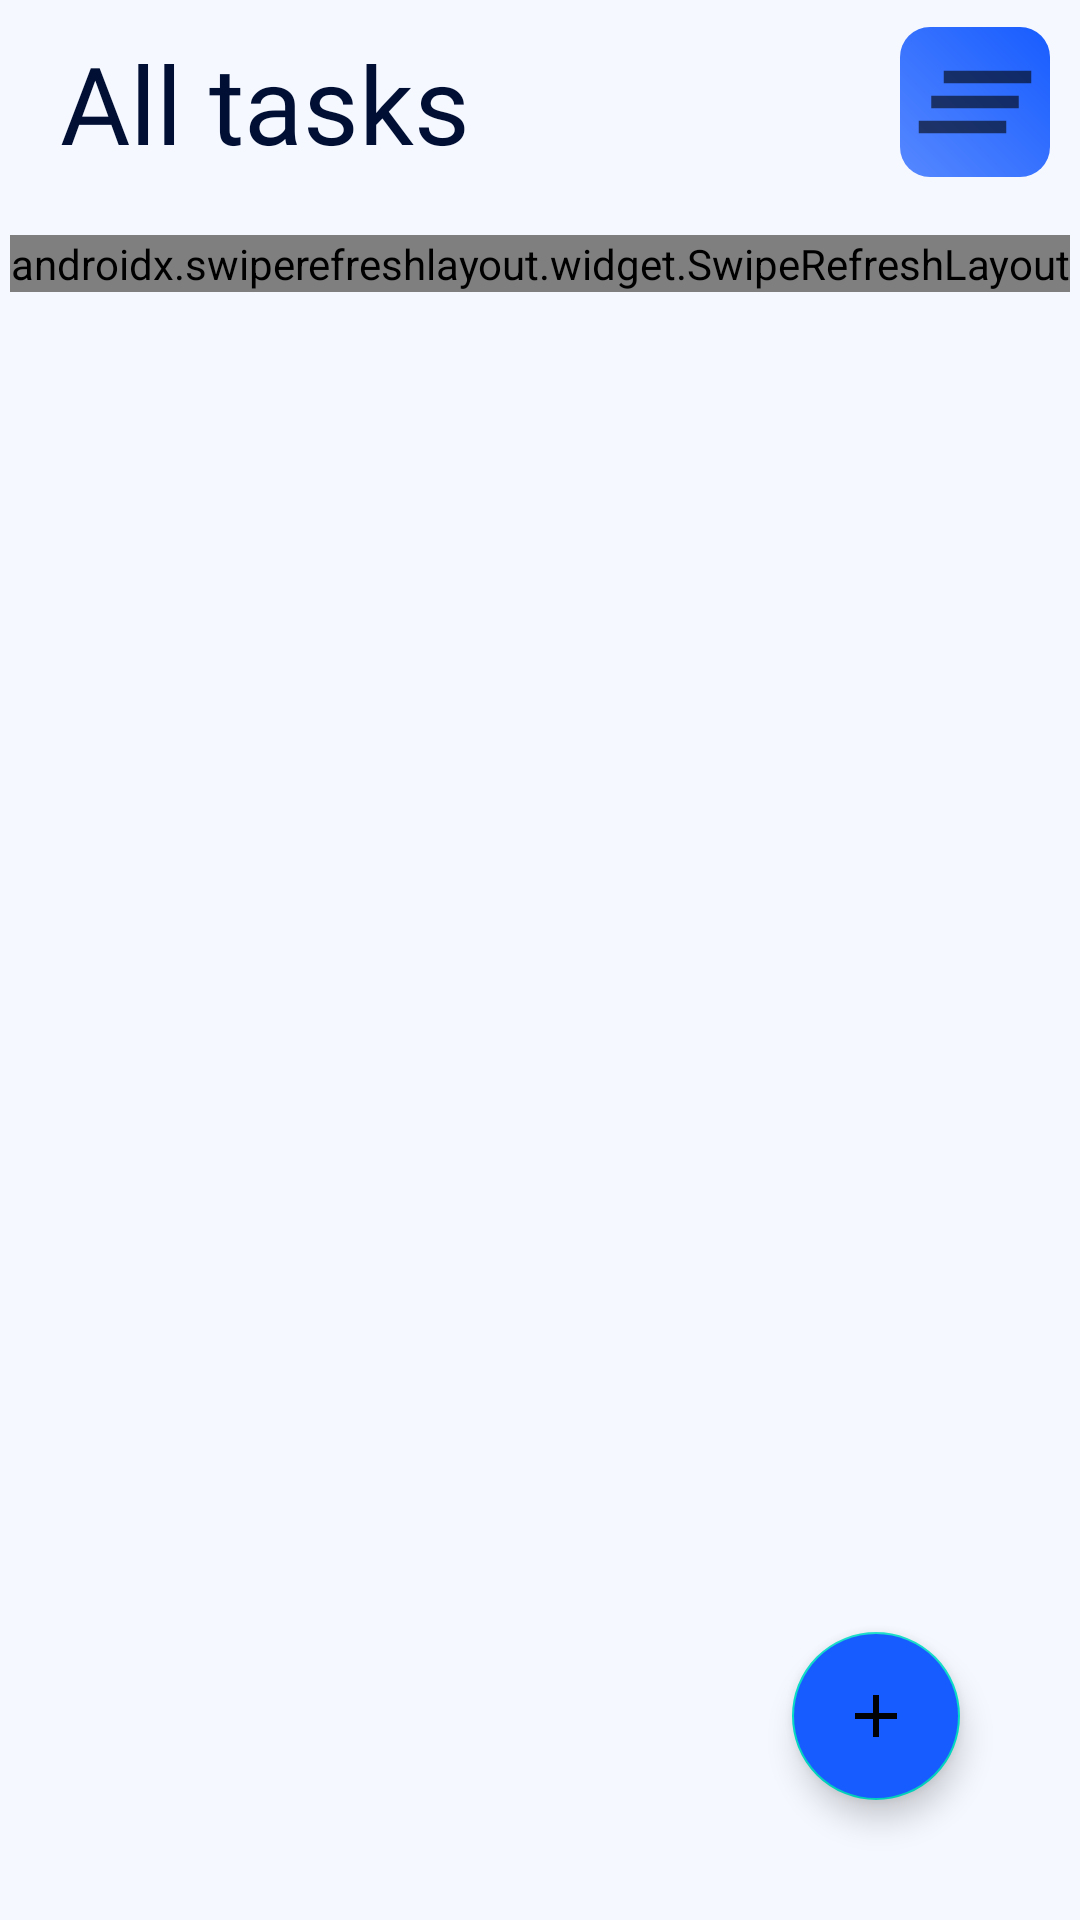

Named icons in this screenshot (1080×1920) and their centers, point (x, y):
add: point (876, 1716)
